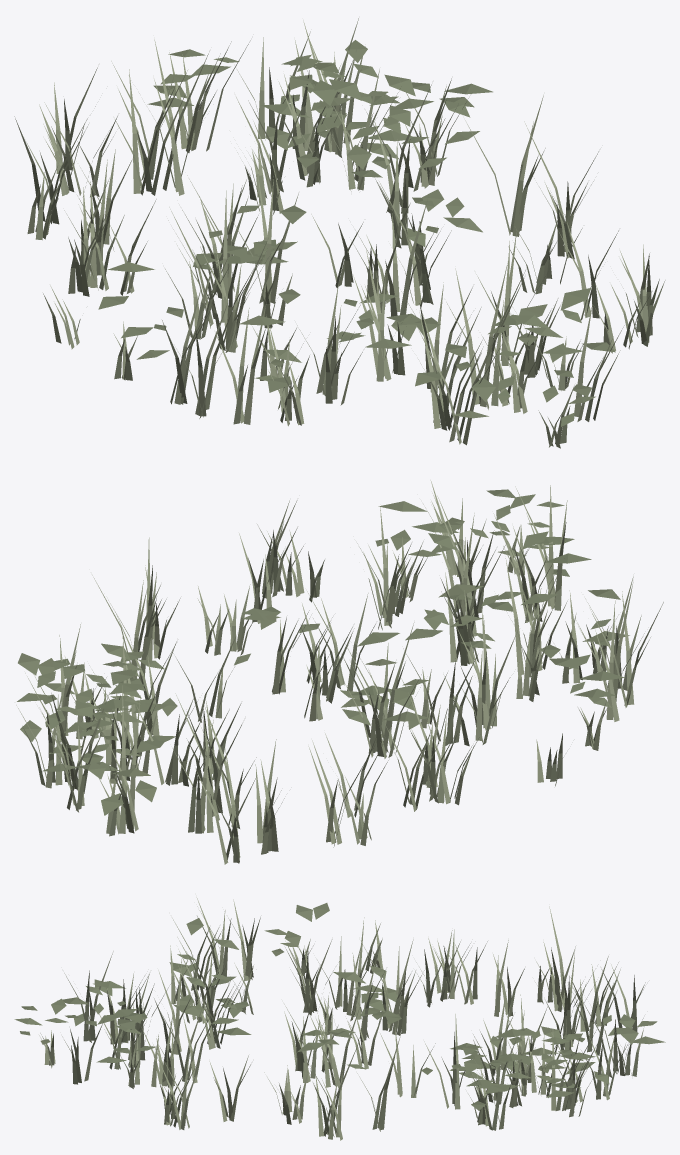
File: AE_Encroachment_15.fbx
3 renders of one model, top to bottom at view 1: azimuth 30°, elevation 25°; view 2: azimuth 150°, elevation 25°; view 3: azimuth 270°, elevation 25°, orthographic. The views are drawn at different scales.
Parts seen in each view (by area): view 1: AE_Encroachment_15_LOD0; view 2: AE_Encroachment_15_LOD0; view 3: AE_Encroachment_15_LOD0.
Boxes of the visible parts, x1,y1,x2,y2 form: AE_Encroachment_15_LOD0: (14, 18, 665, 448); AE_Encroachment_15_LOD0: (16, 480, 663, 864); AE_Encroachment_15_LOD0: (14, 897, 665, 1140).
Size of what is drawn, in the model's own units: 419 by 104 by 620.
